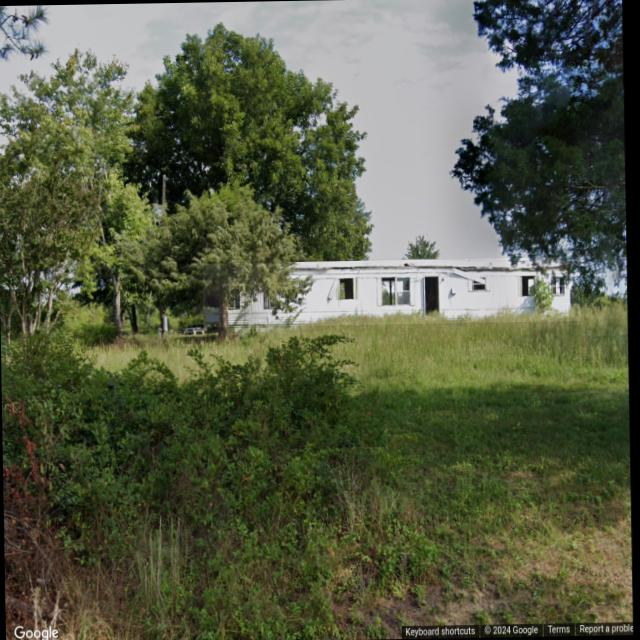House: (202, 257, 580, 328)
